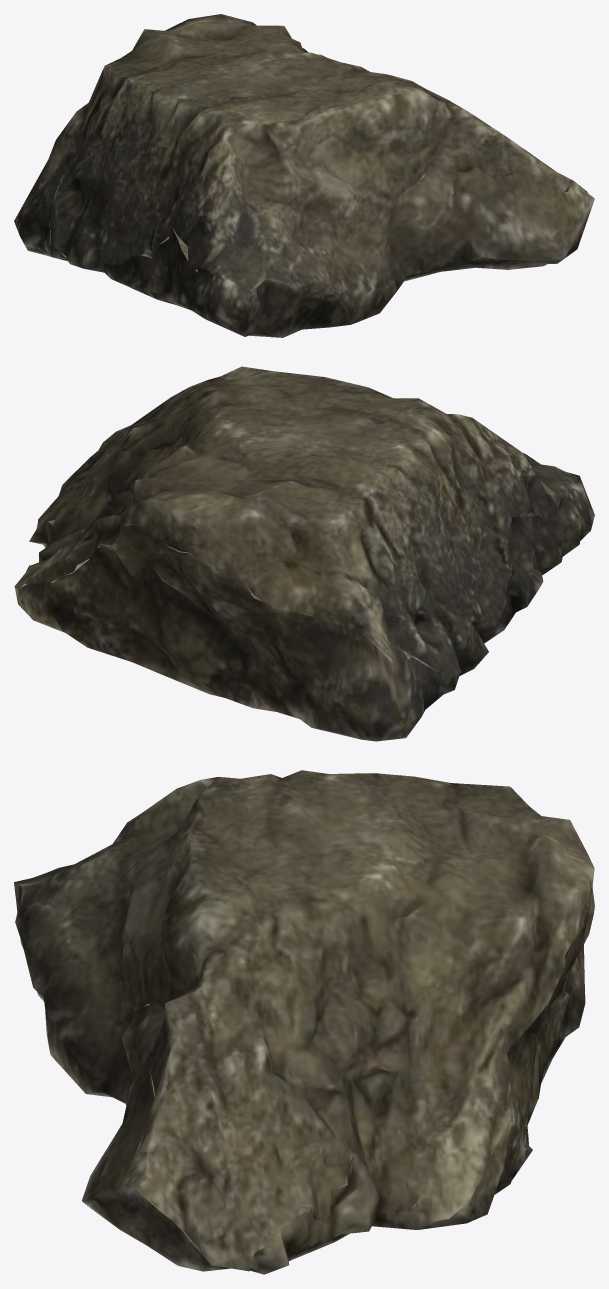
Rendered from rock_moss_set_02_1.glb.
3 views of the same model, one above another, from view 1: azimuth 30°, elevation 25°; view 2: azimuth 150°, elevation 25°; view 3: azimuth 270°, elevation 25° (orthographic). The views are drawn at different scales.
Parts seen in each view (by area): view 1: rock_moss_set_02_rock08; view 2: rock_moss_set_02_rock08; view 3: rock_moss_set_02_rock08.
Part boxes in pixels (x1,y1,x2,y2): rock_moss_set_02_rock08: [14, 14, 594, 337]; rock_moss_set_02_rock08: [14, 366, 594, 741]; rock_moss_set_02_rock08: [14, 770, 594, 1274].
Bounding box in the file's own units: 1.21 × 0.5208 × 0.9795.
1 material, 1 textured.
